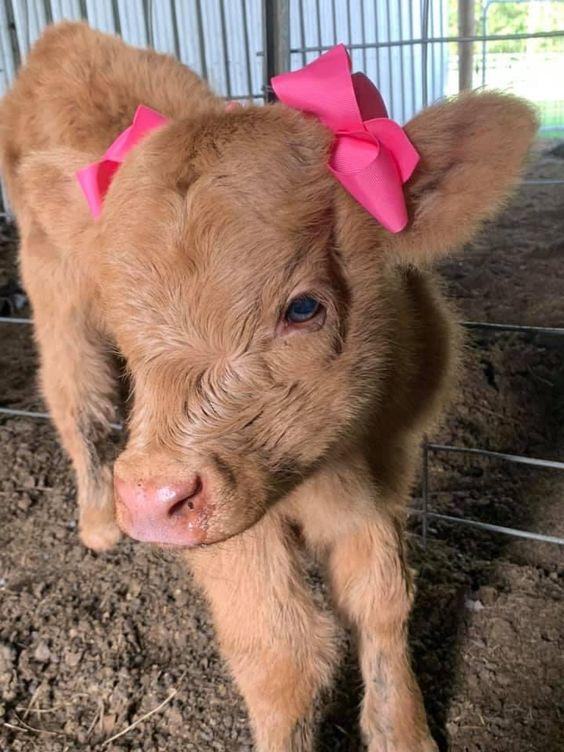cow: (64, 84, 516, 670)
